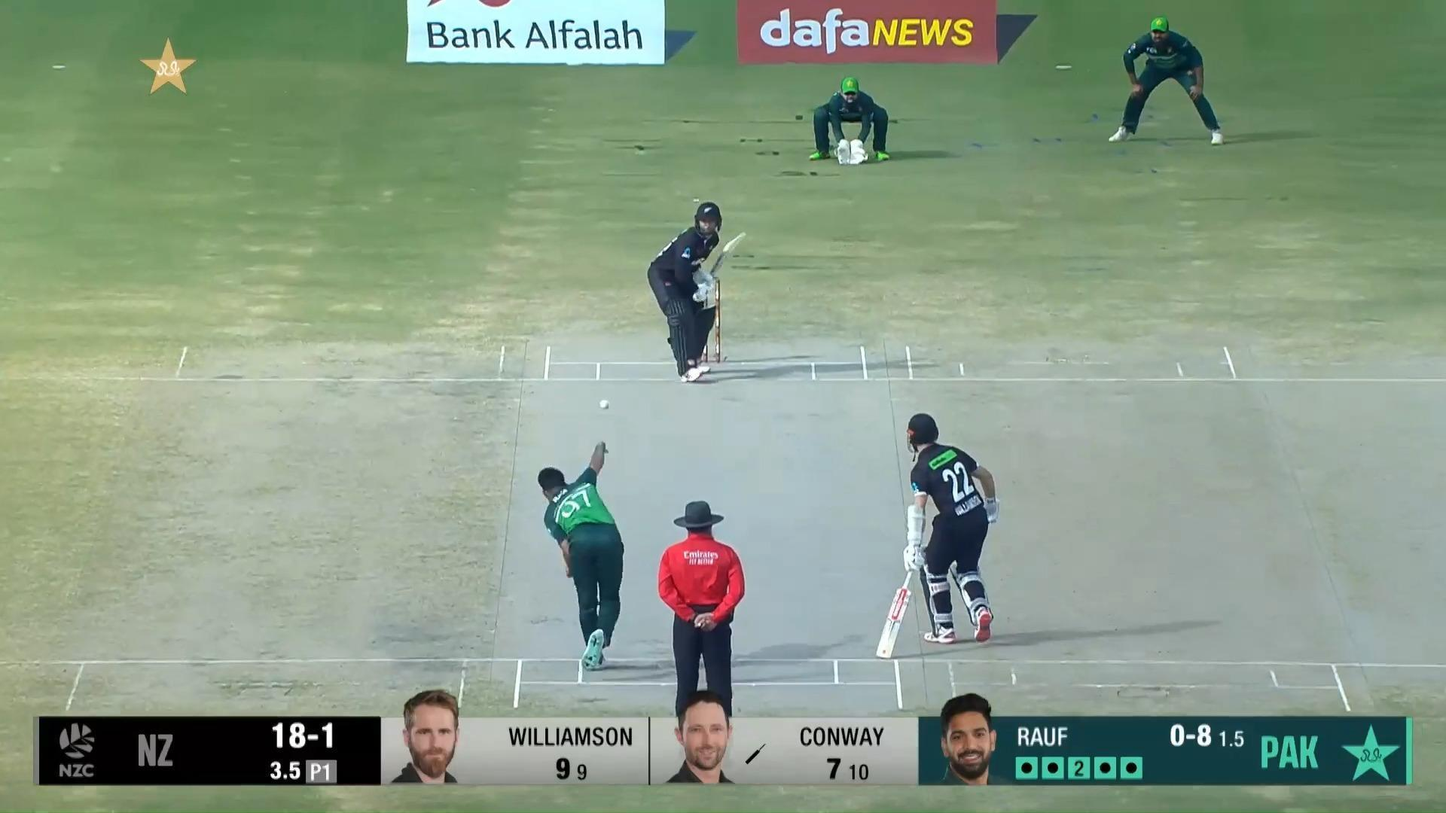BM 1: (648, 202, 746, 383)
BO: (535, 438, 626, 672)
